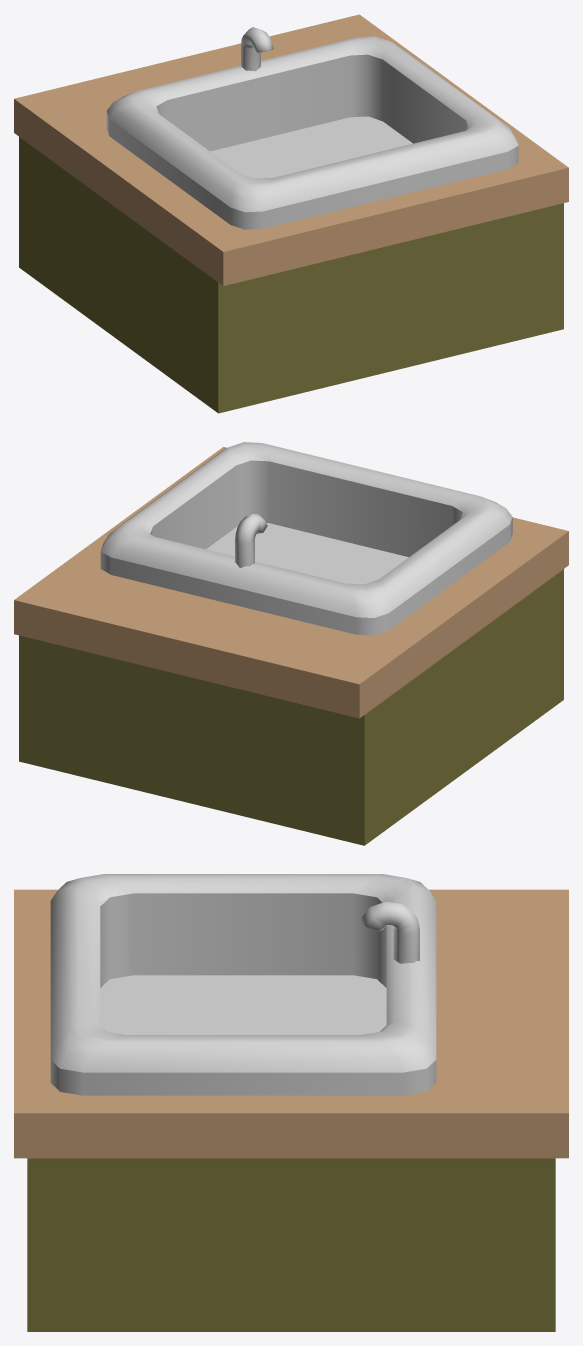
Rendered from sinkk.fbx.
3 views of the same model, one above another, from view 1: azimuth 30°, elevation 25°; view 2: azimuth 150°, elevation 25°; view 3: azimuth 270°, elevation 25° (orthographic). The views are drawn at different scales.
Visible parts, largest first — view 1: Counter.002; view 2: Counter.002; view 3: Counter.002.
Part boxes in pixels (x1,y1,x2,y2): Counter.002: [14, 14, 568, 413]; Counter.002: [14, 442, 568, 845]; Counter.002: [14, 874, 568, 1331].
Bounding box in the file's own units: 120 × 80.28 × 126.
Materials: 2 (1 with a texture image).
